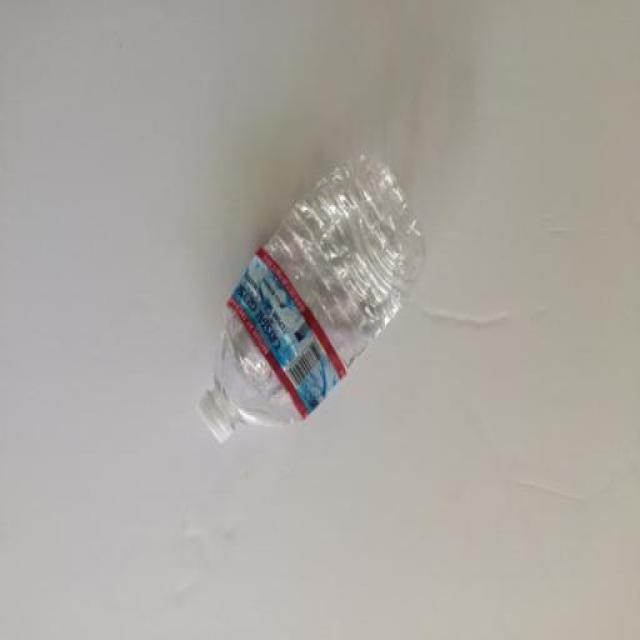plastic_bottle: (181, 146, 450, 503)
